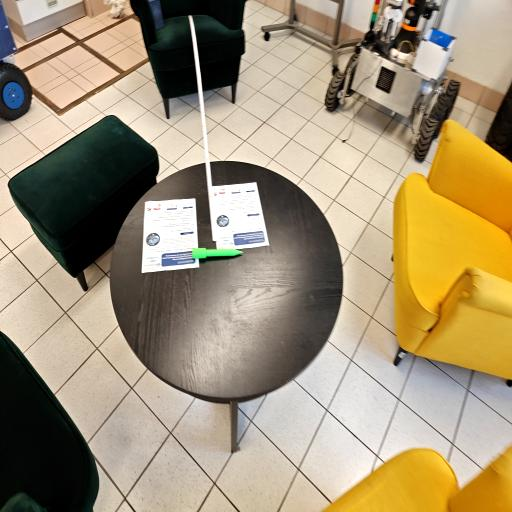Probe-Detection: (192, 248, 243, 259)
